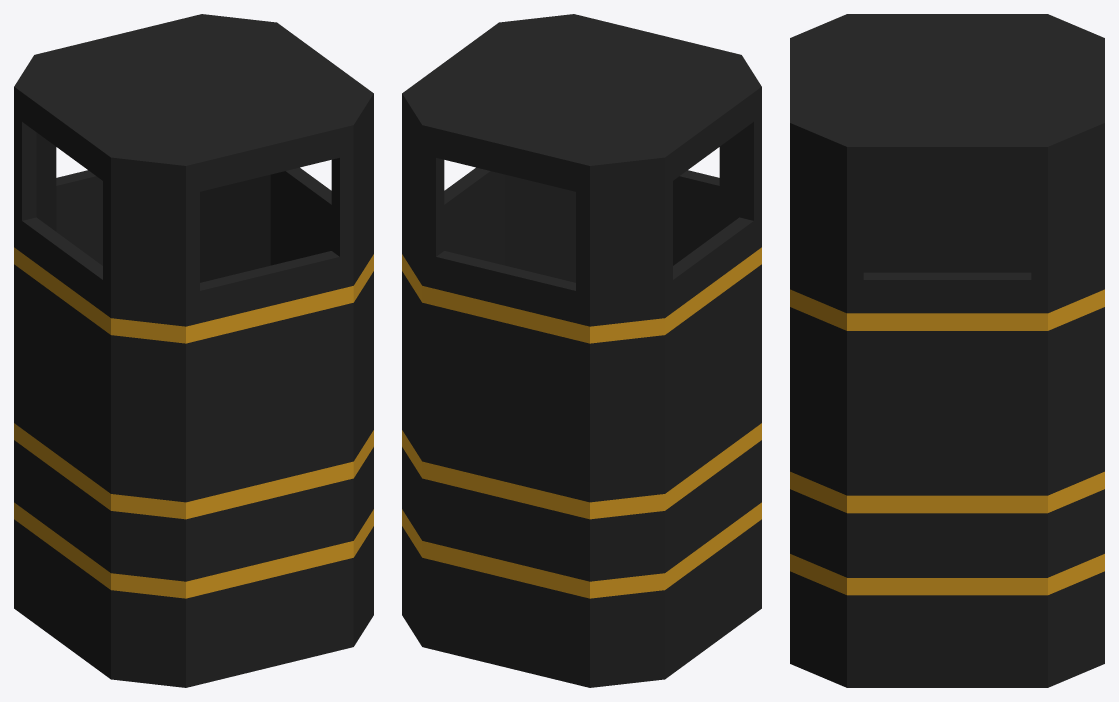
File: CityBin.fbx
3 renders of one model, left to right at view 1: azimuth 30°, elevation 25°; view 2: azimuth 150°, elevation 25°; view 3: azimuth 270°, elevation 25°, orthographic. The views are drawn at different scales.
Visible parts, largest first — view 1: CityBin; view 2: CityBin; view 3: CityBin.
Part boxes in pixels (x1=…): CityBin: x1=14, y1=14, x2=373, y2=687; CityBin: x1=402, y1=14, x2=761, y2=687; CityBin: x1=790, y1=14, x2=1104, y2=687.
Size of the model in its own units: 50.08 by 95 by 50.08.
